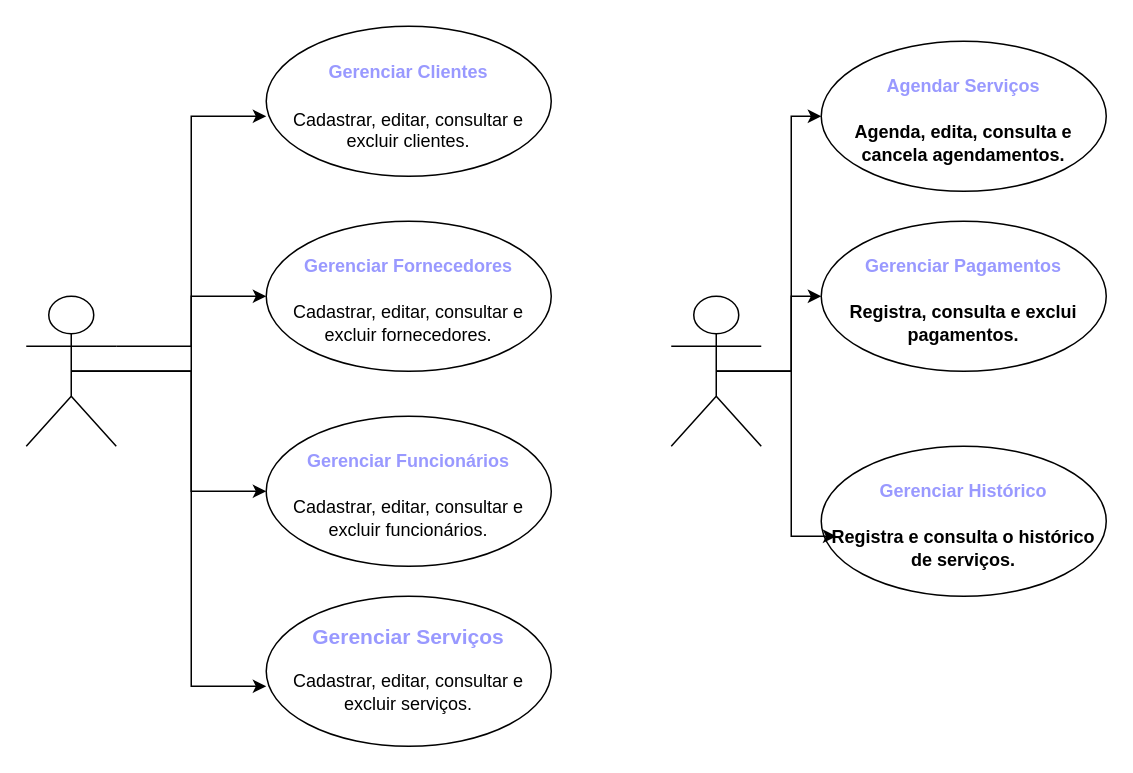
Image size: 1133x773. Some labels were removed from this diagram. Each missing label, with the centre of its shape:
Admin: point (70, 370)
Cliente: point (715, 370)
